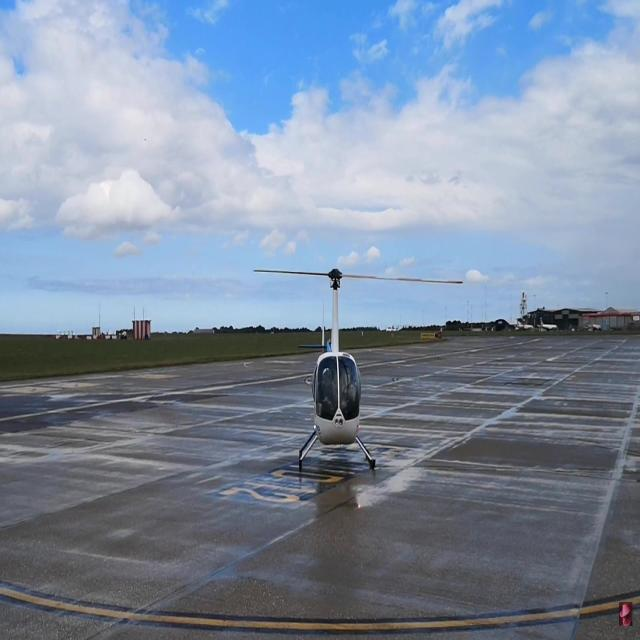CIV_HELO: (298, 268, 378, 472)
